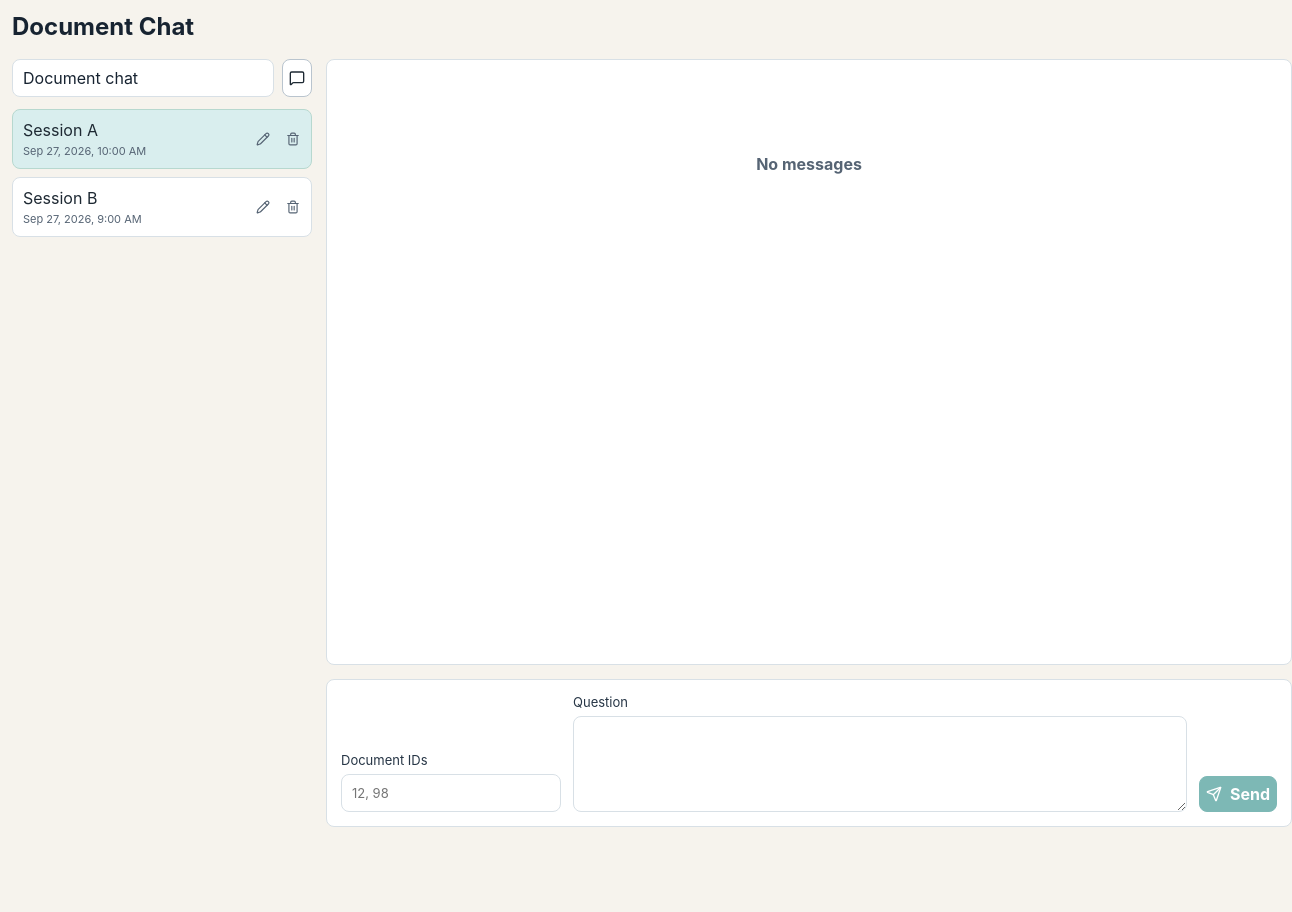
it: <DocumentChat> streaming, sources and session management (#449) › renames a session inline
Click the button named "Rename chat “Session B”". click: click(263, 207)
box: [249, 193, 277, 221]
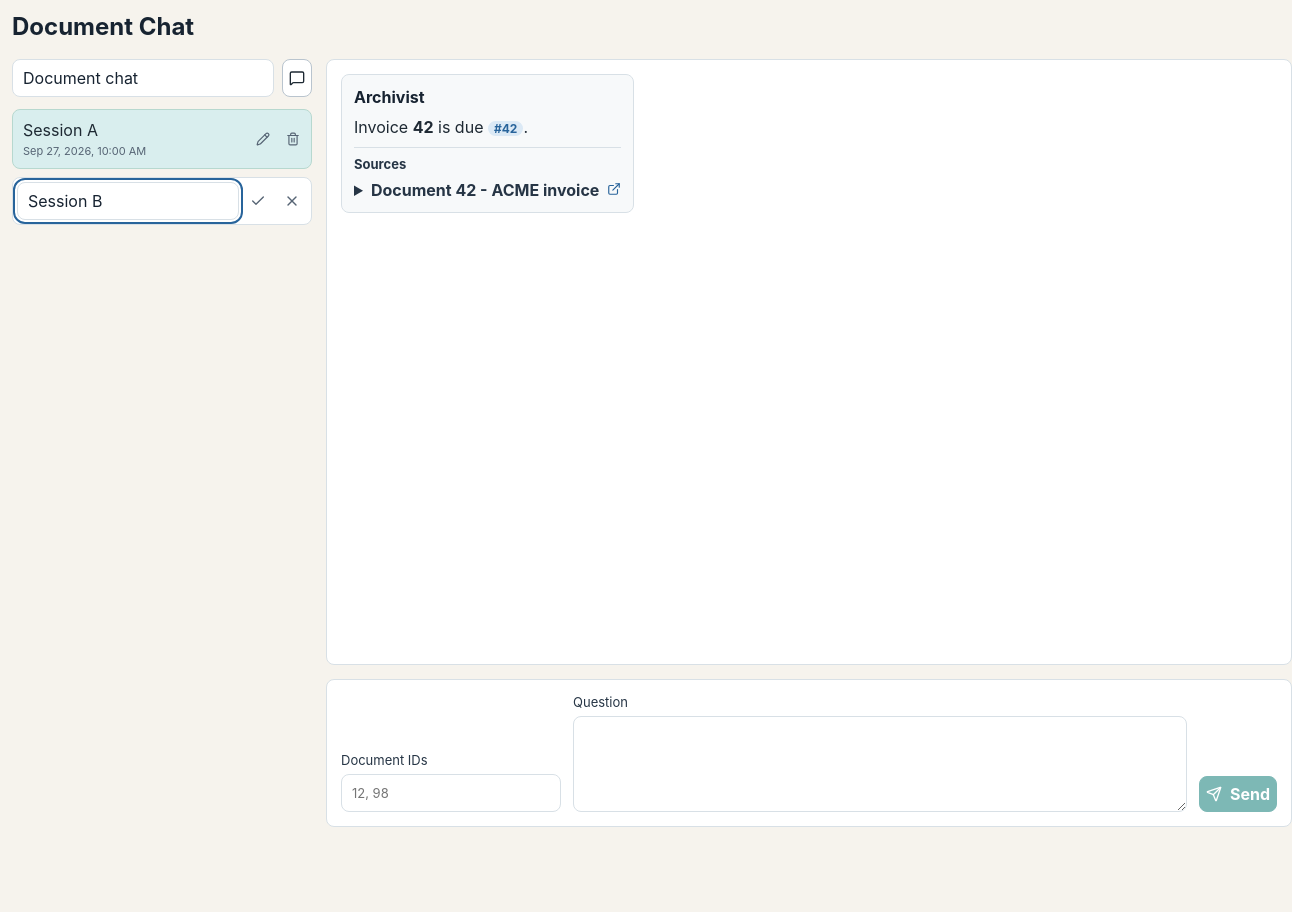
Replace the text in the field named "Chat title" with "Taxes 2026". click: (128, 201)
box: [17, 182, 239, 220]
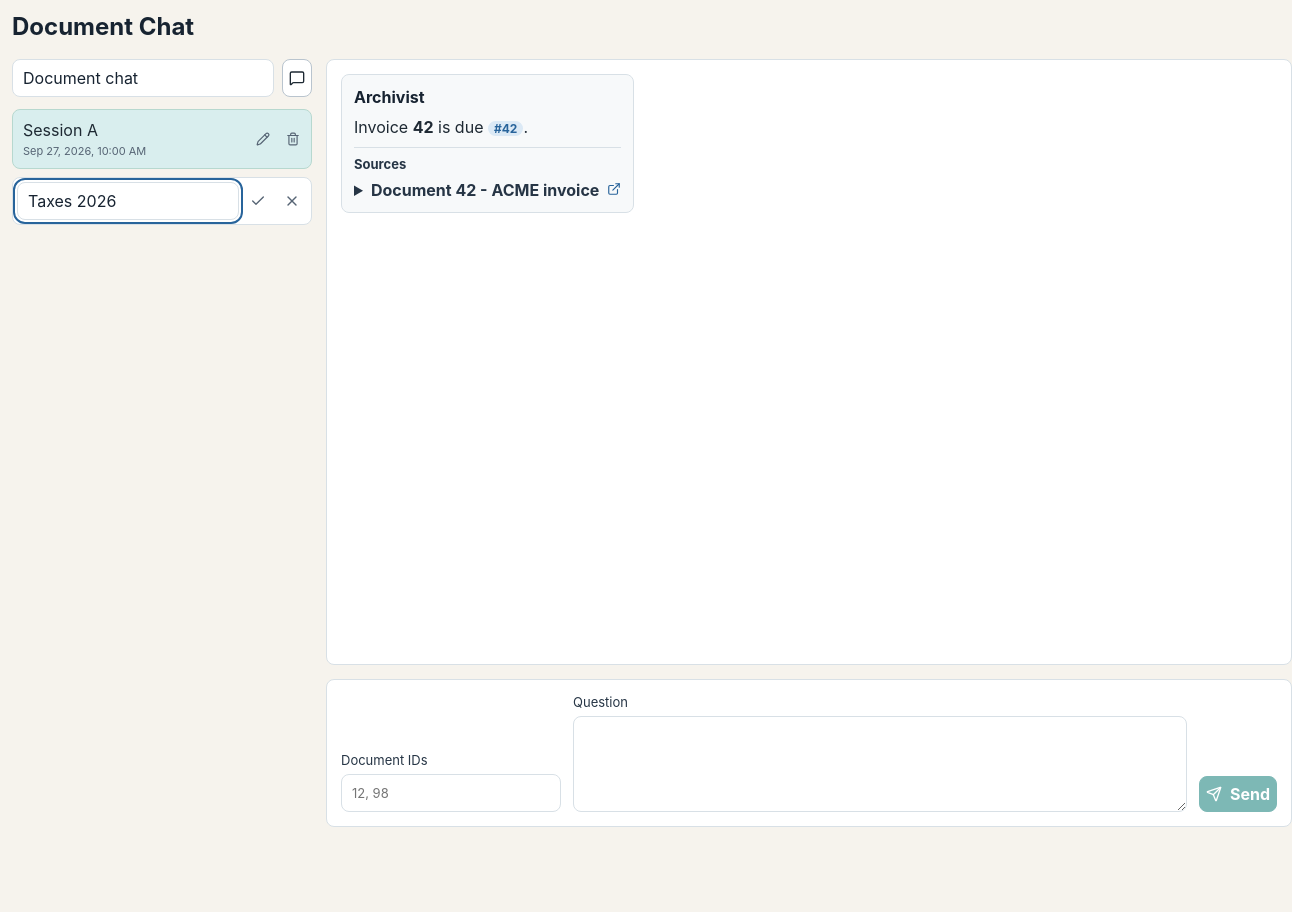
Click the button named "Save title". click: click(258, 201)
box: [243, 187, 273, 215]
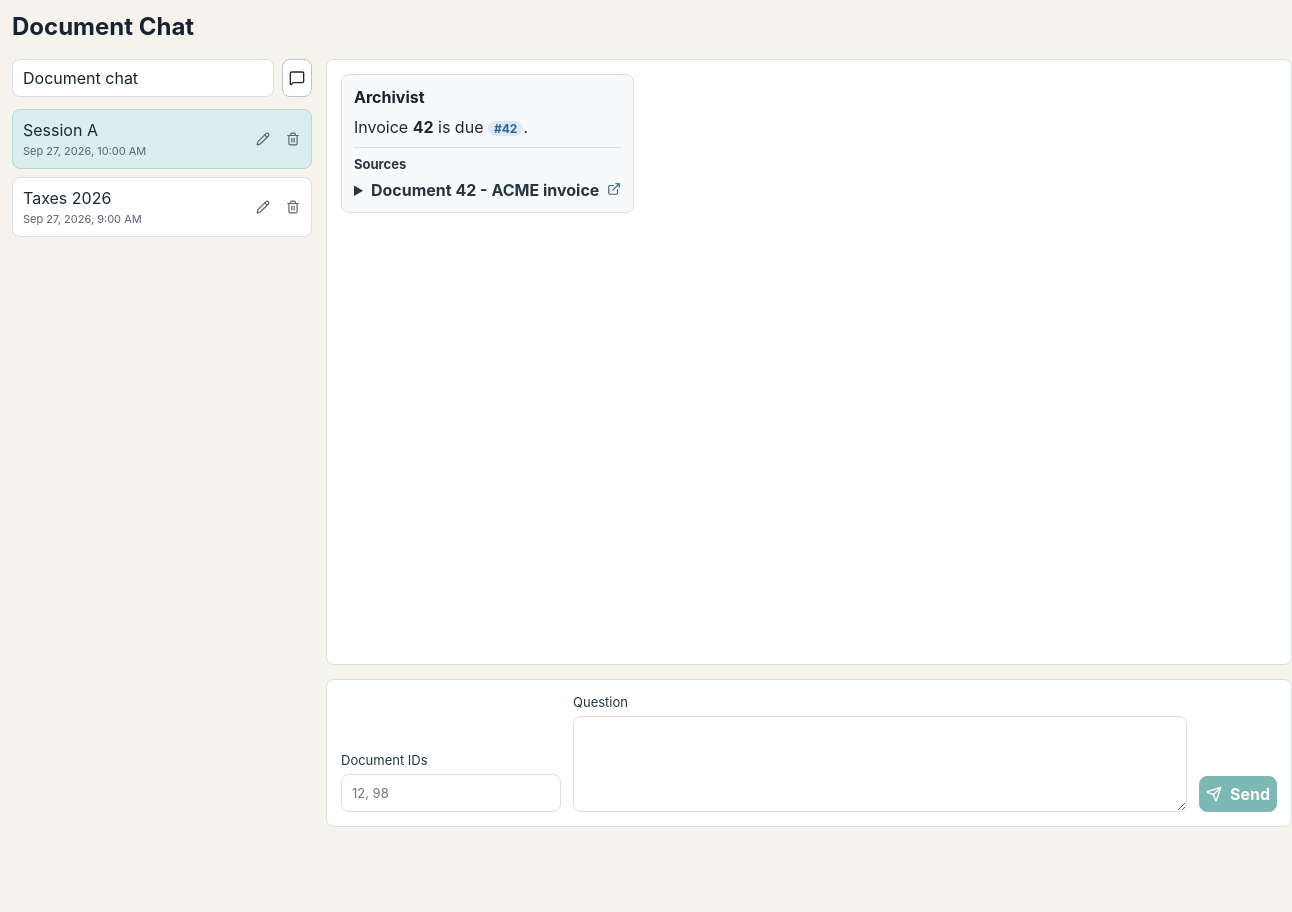
Result: the button titled "Taxes 2026" is shown at [13, 178, 249, 236]
